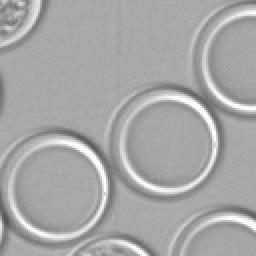picoshell: (106, 88, 220, 196), (2, 132, 110, 242), (192, 4, 254, 116), (166, 206, 254, 254), (72, 236, 150, 254)
